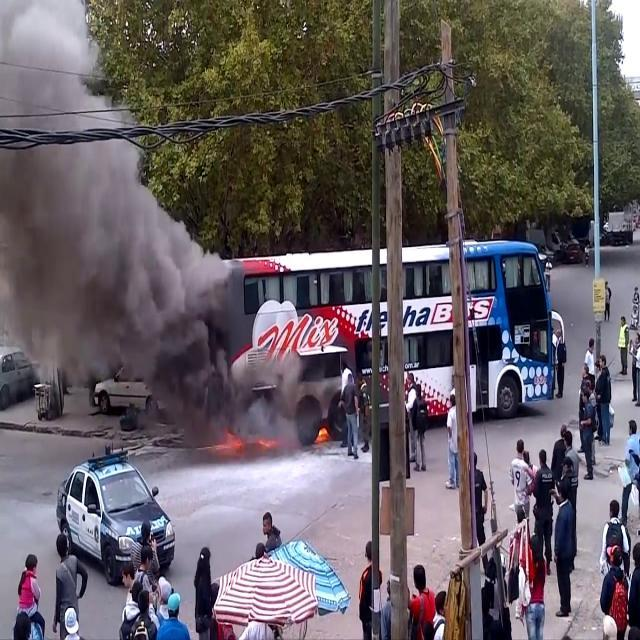Fire: (314, 420, 332, 448)
Smoke: (0, 224, 304, 457), (0, 0, 162, 437)
